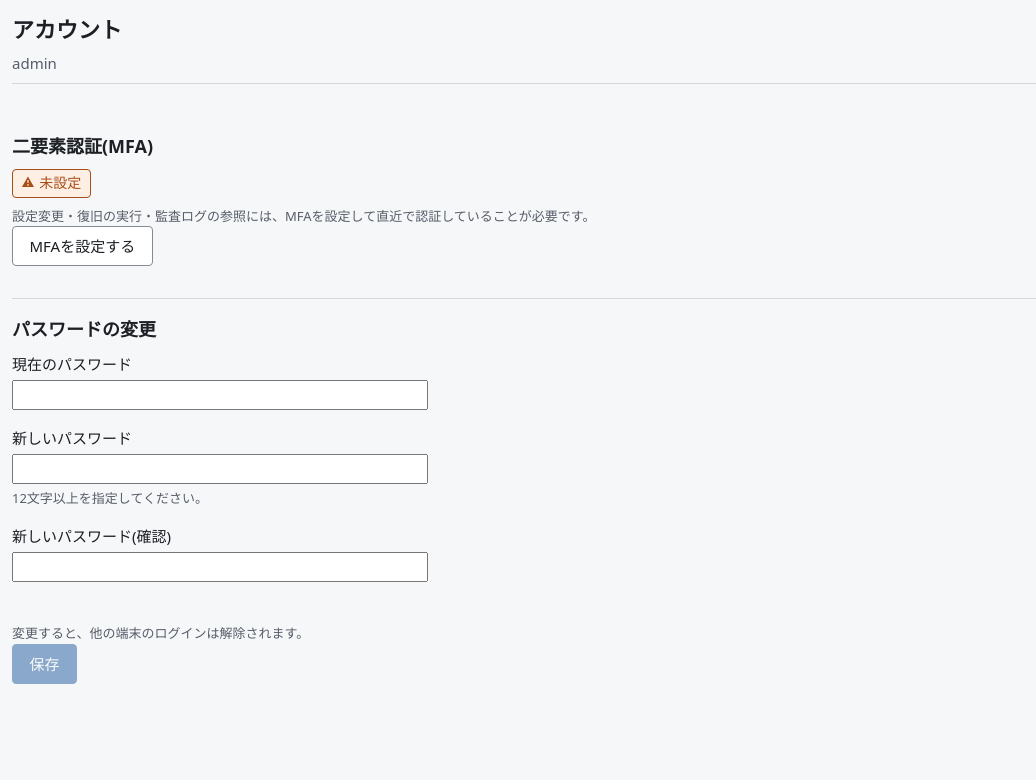
it: AccountView › 確認用が一致しないと保存できない
Type "current-password" into the password field with id "current-password" at (220, 395), box [12,380,428,410]
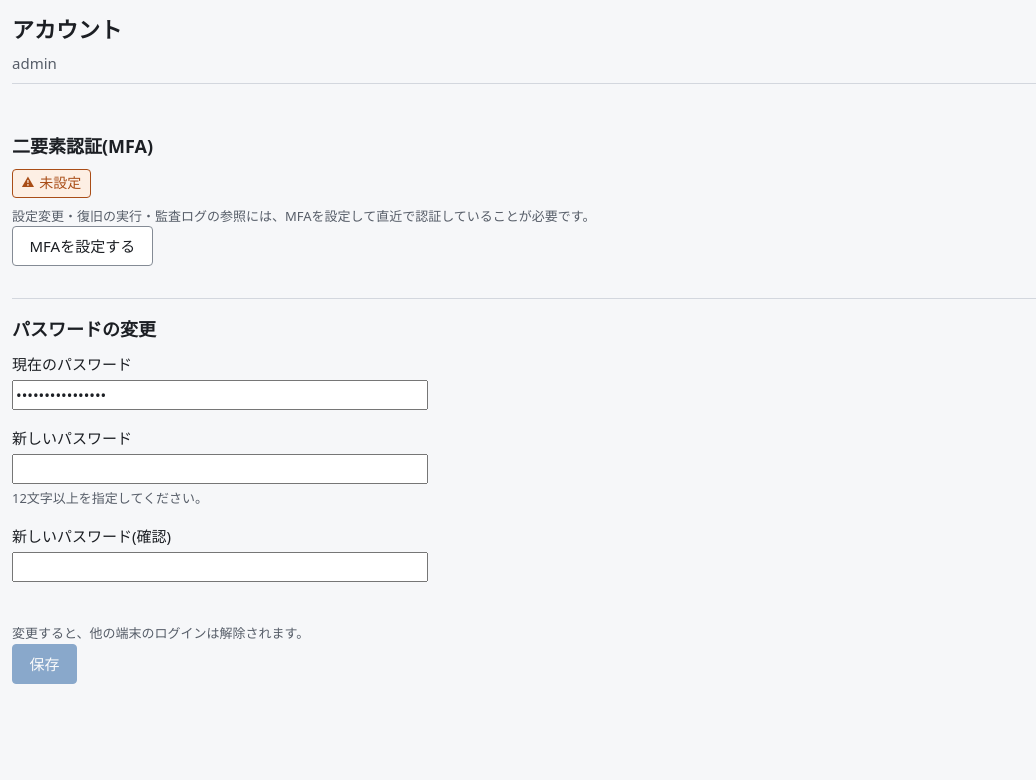
Type "brand-new-password" into the password field with id "new-password" at (220, 469), box [12,454,428,484]
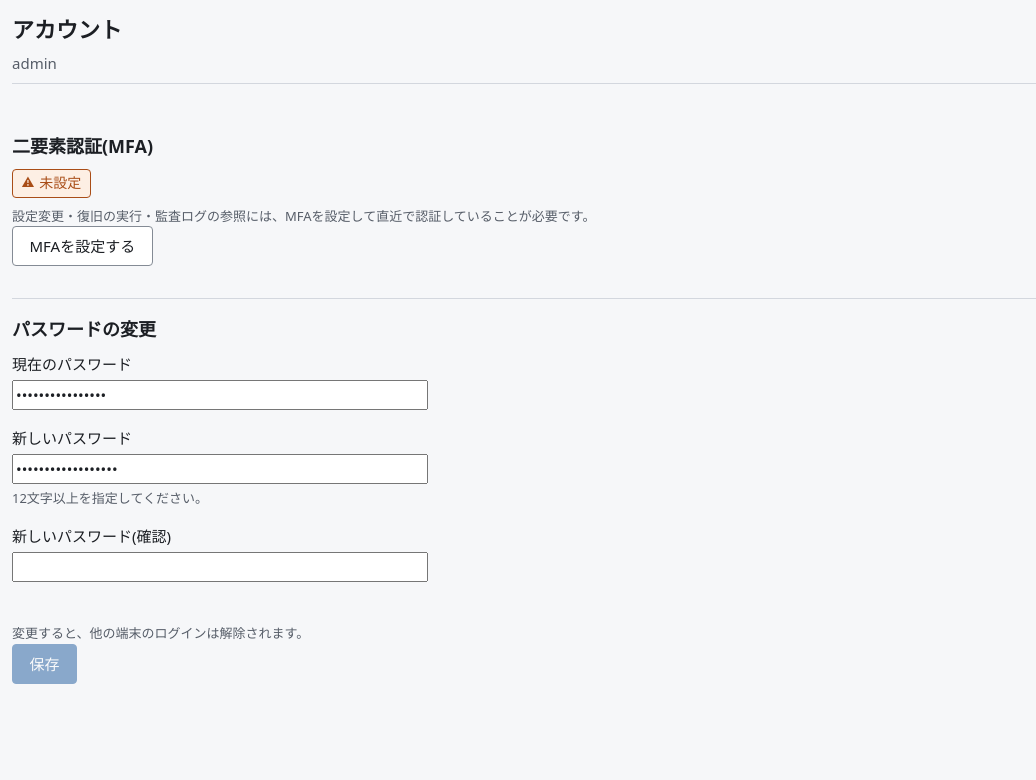
Type "different-password" into the password field with id "confirm-password" at (220, 568), box [12,552,428,582]
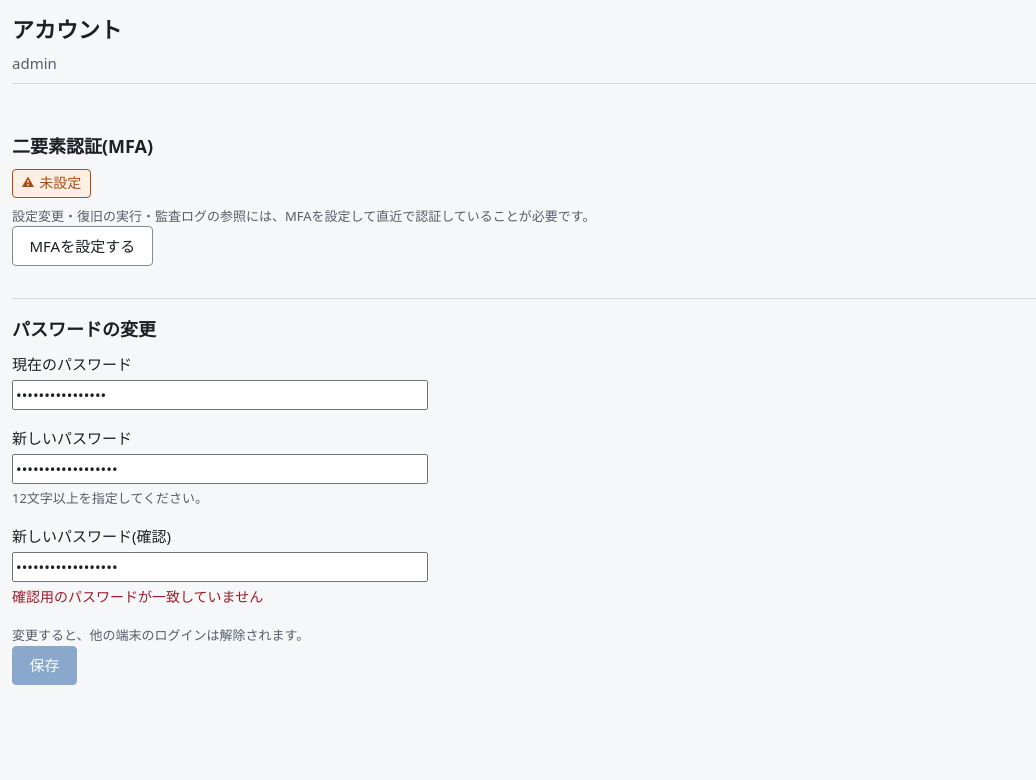
Expected: the button "保存" is disabled, [12,646,77,685]
Result: the text "一致していません" is shown at [12,588,263,606]
